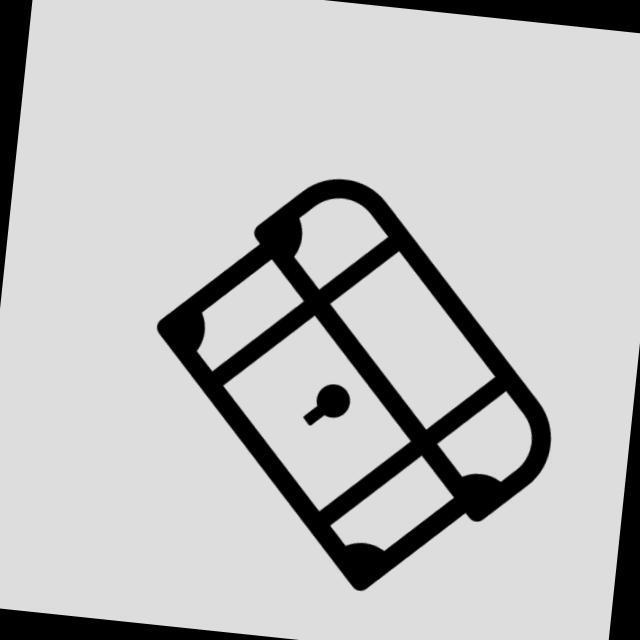treasure_box: (125, 154, 587, 617)
